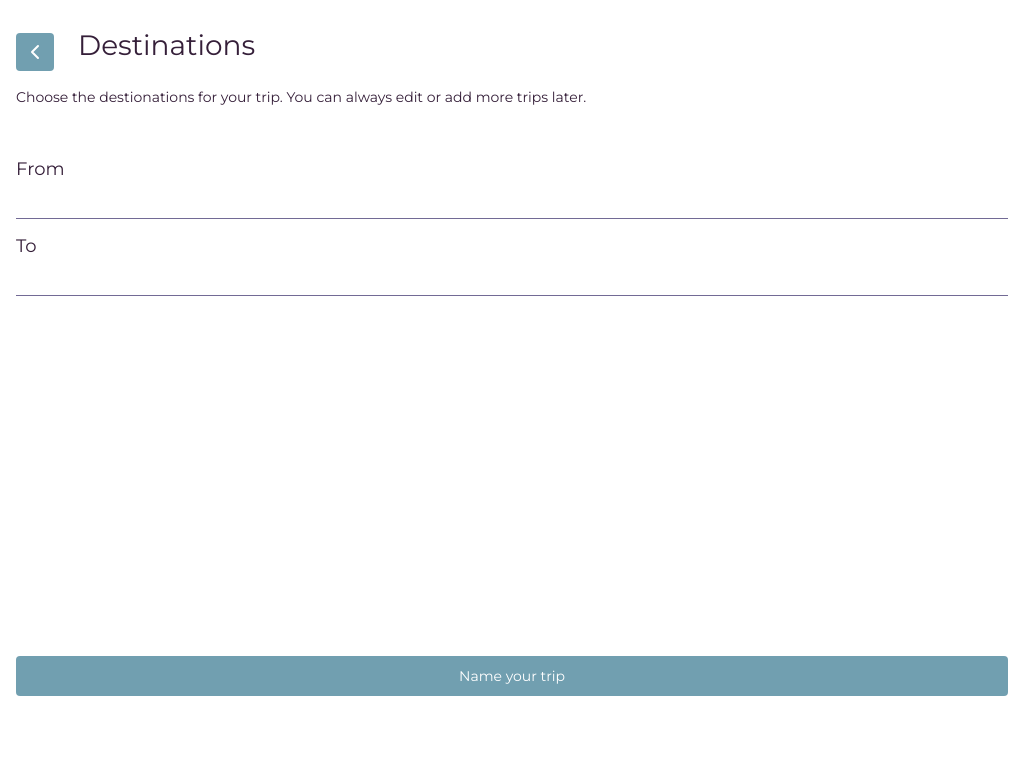
it: <AddCommuteDialog /> › should go to NameCommuteView
Type "aa" into the field with test id "from-input".
click(512, 200); type("aa")  # box [16,182,1008,218]
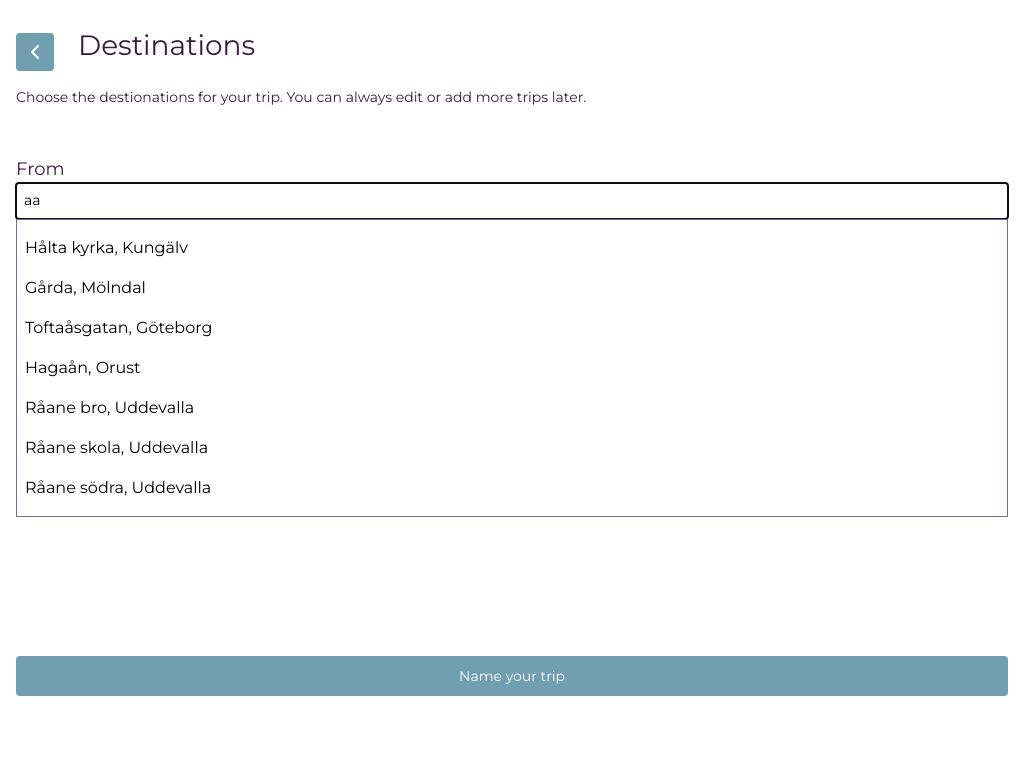
expect the list is shown: met, box [16,218,1008,516]
Click the list item "Hålta kyrka, Kungälv".
click(106, 247)  # box [25,238,188,256]
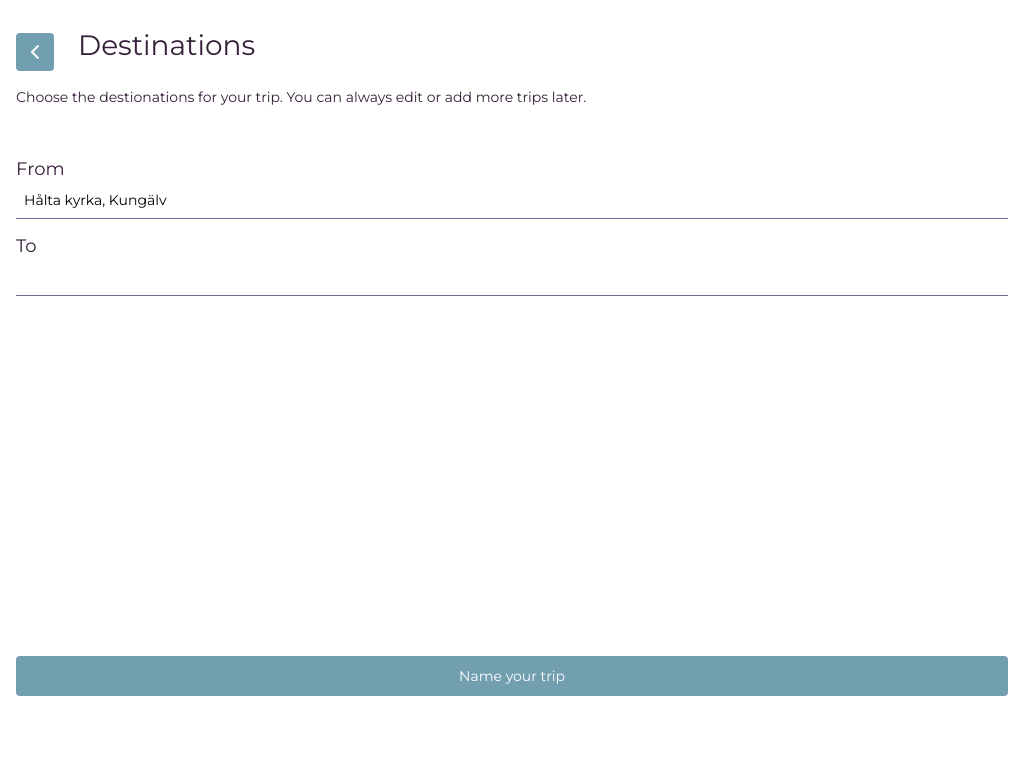
Type "aa" into the field with test id "to-input".
click(512, 278); type("aa")  # box [16,260,1008,296]
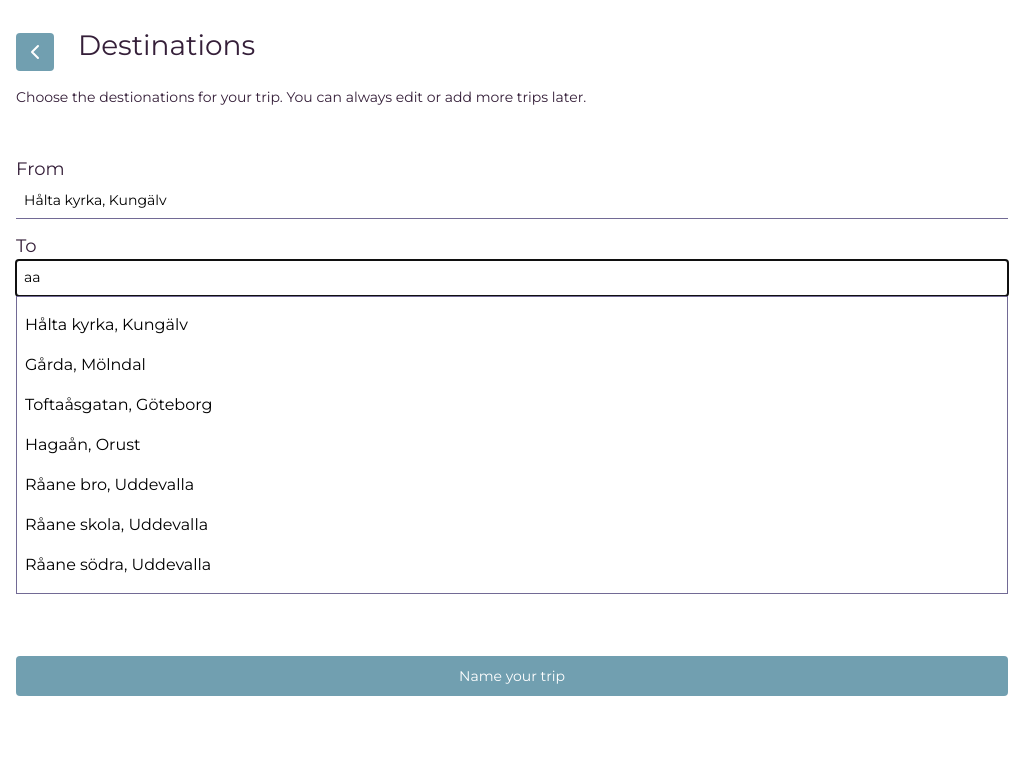
expect the list is shown: met, box [16,296,1008,594]
Click the list item "Hålta kyrka, Kungälv".
click(106, 324)  # box [25,314,188,334]
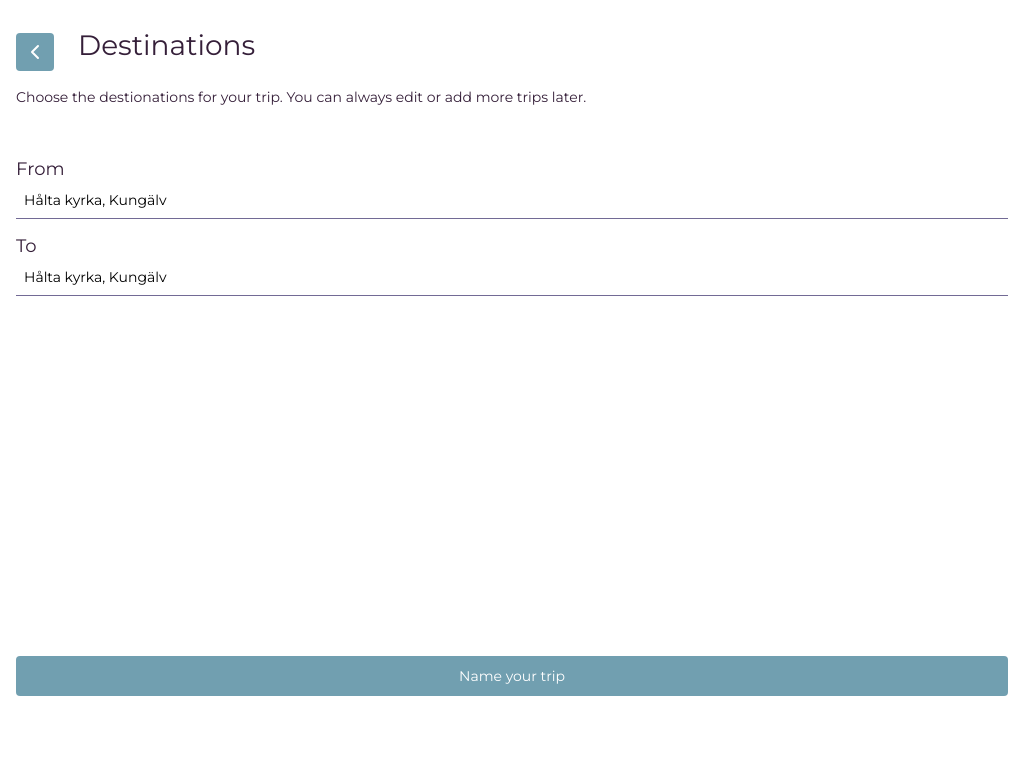
Click the button "Name your trip".
click(512, 676)  # box [16,656,1008,696]
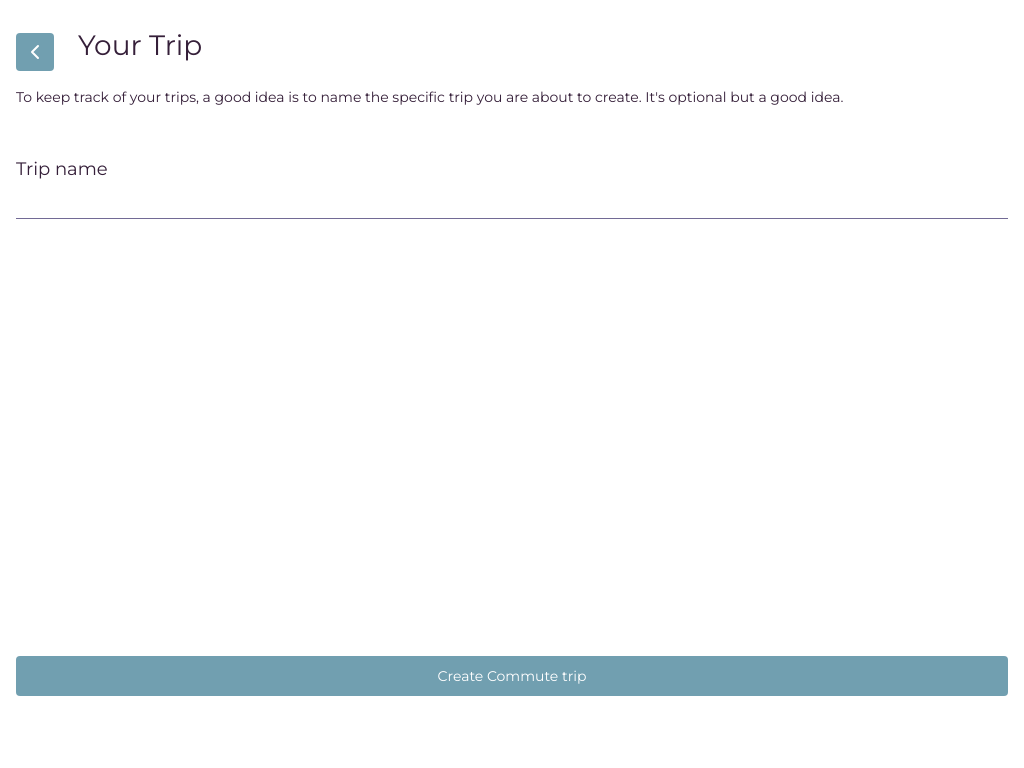
expect the text "To keep track of your trips, a good idea is to name the specific trip you are about to create. It's optional but a good " is shown: met, box [16,88,843,106]
